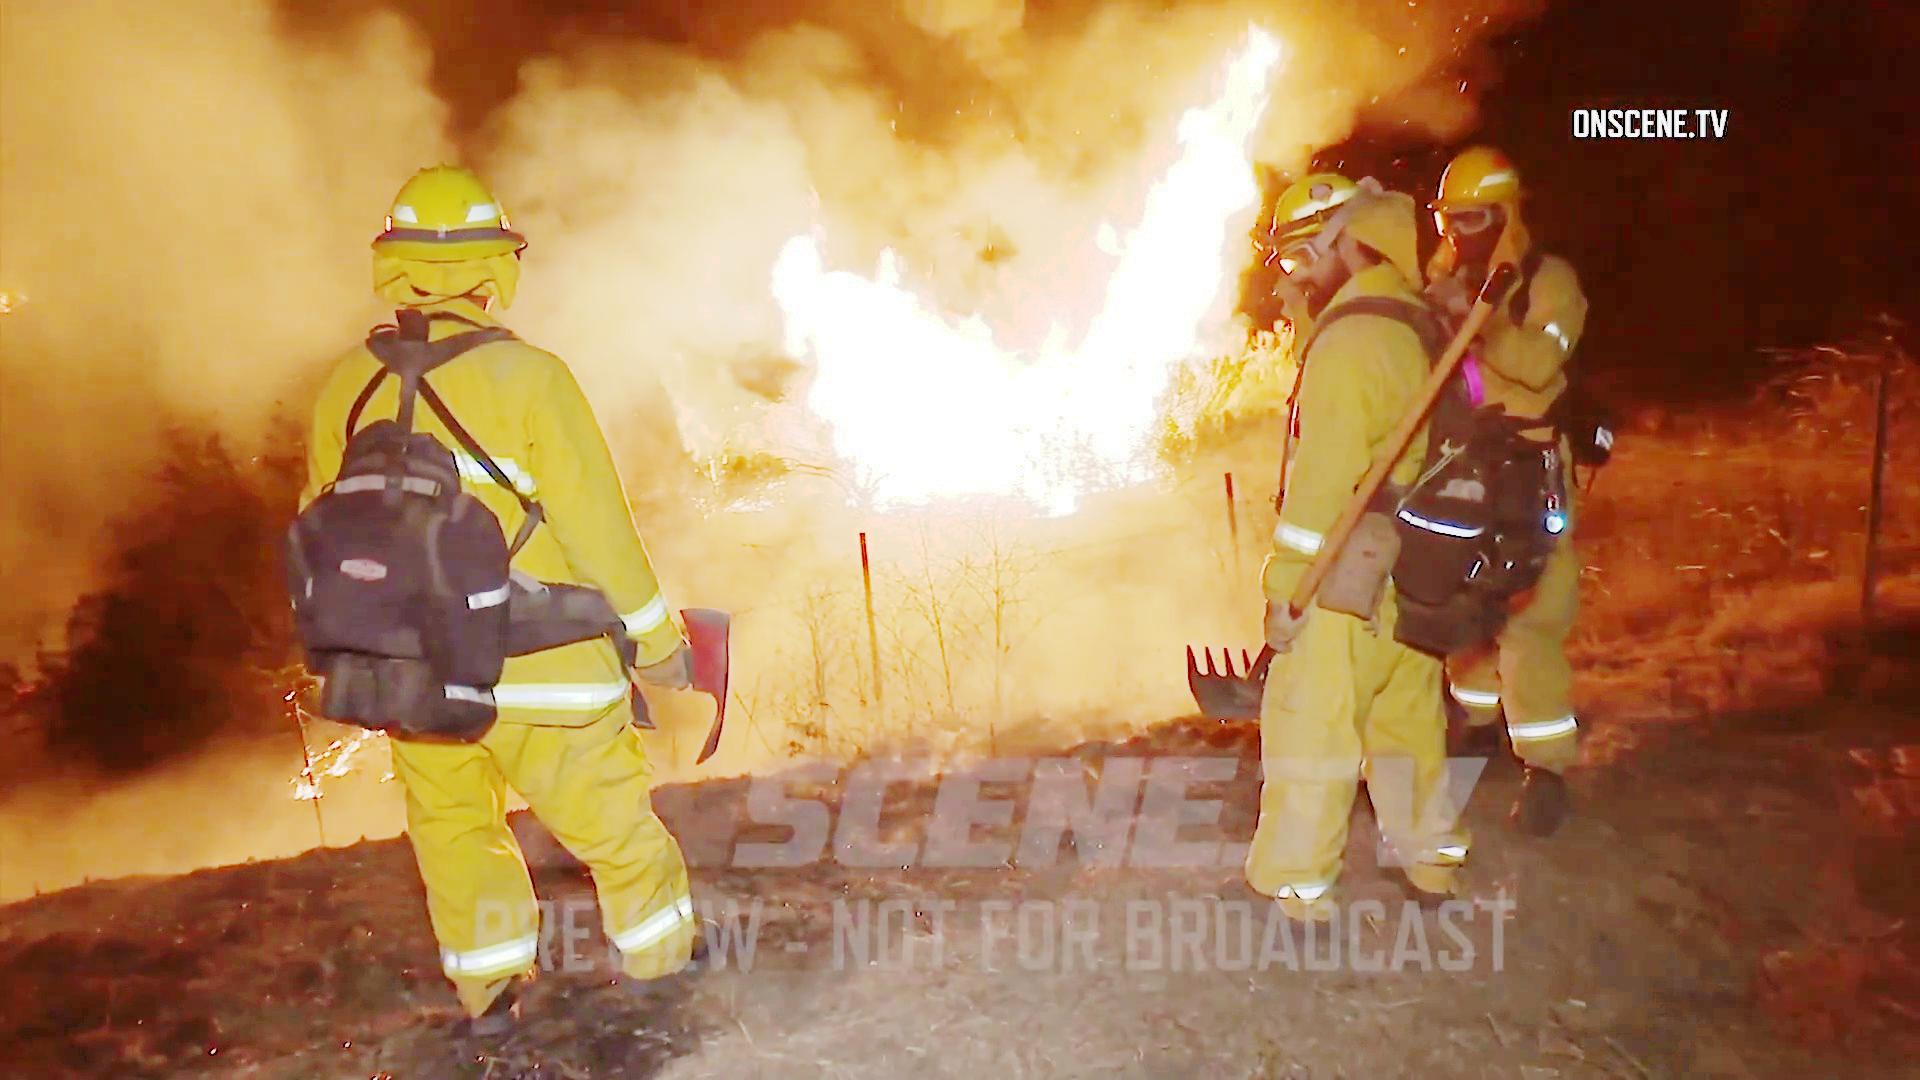fire: (758, 208, 1102, 522), (1089, 22, 1266, 509)
smoke: (46, 0, 305, 313)
